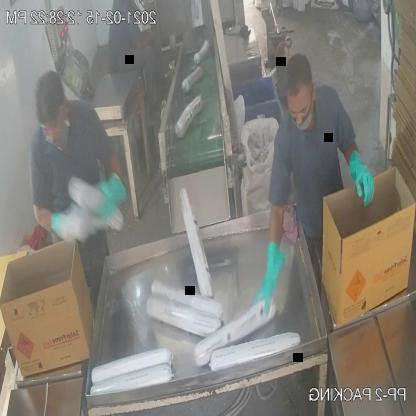glove: (242, 232, 293, 320), (85, 159, 133, 224), (340, 142, 380, 216)
no_glove: (122, 17, 167, 52)
